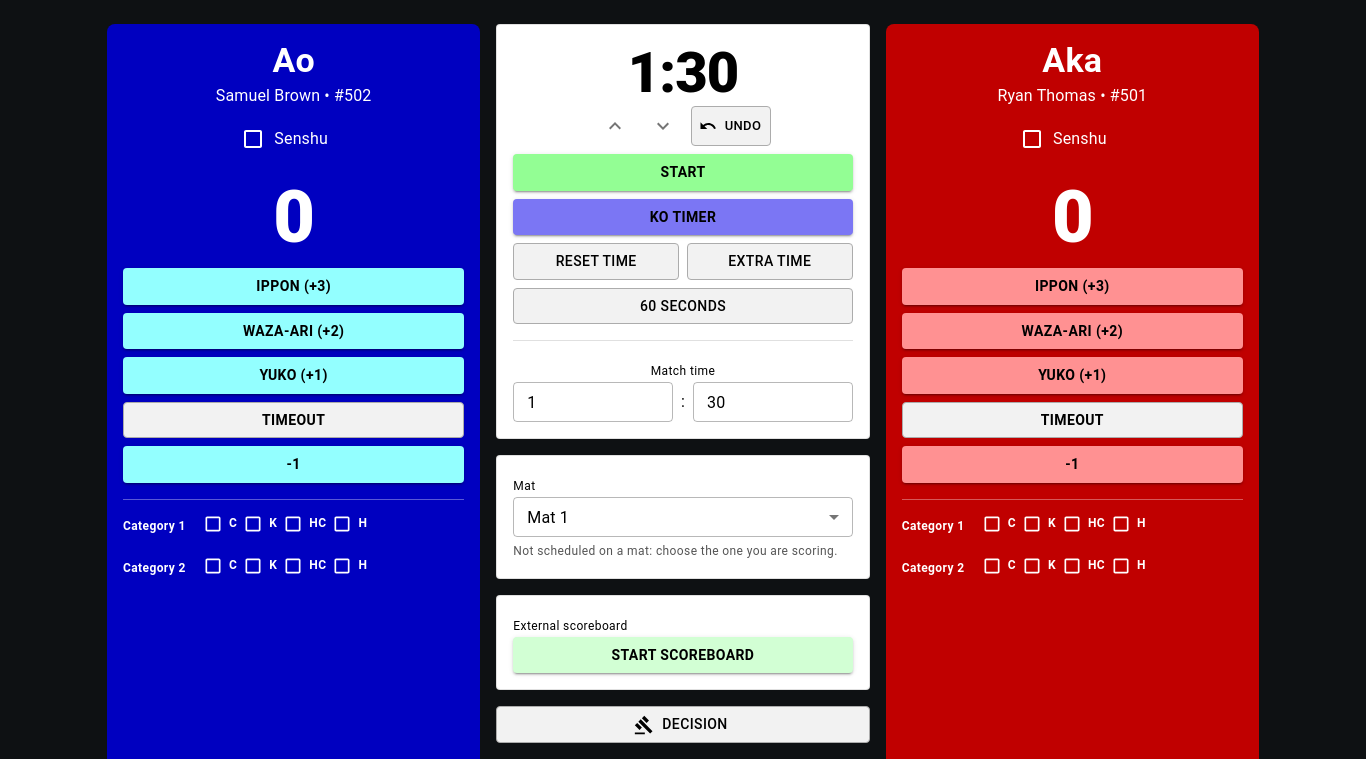
Test: console undo and referee decisions › declares kiken against the score and names the other side
The image size is (1366, 759).
Click the button "Ippon (+3)" below "Samuel Brown" at (294, 286), box [123,268,464,304]
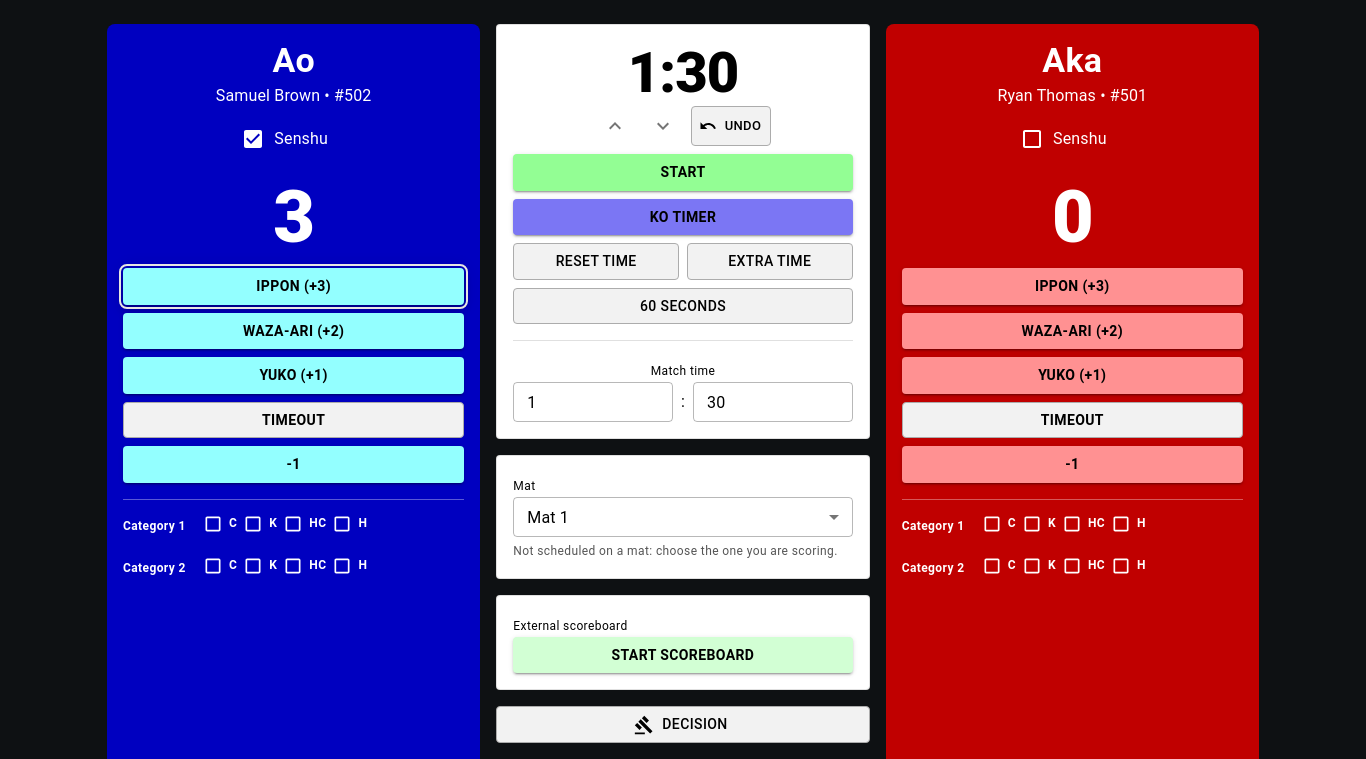
Click the button "Decision" at (683, 725), box [496,706,870,743]
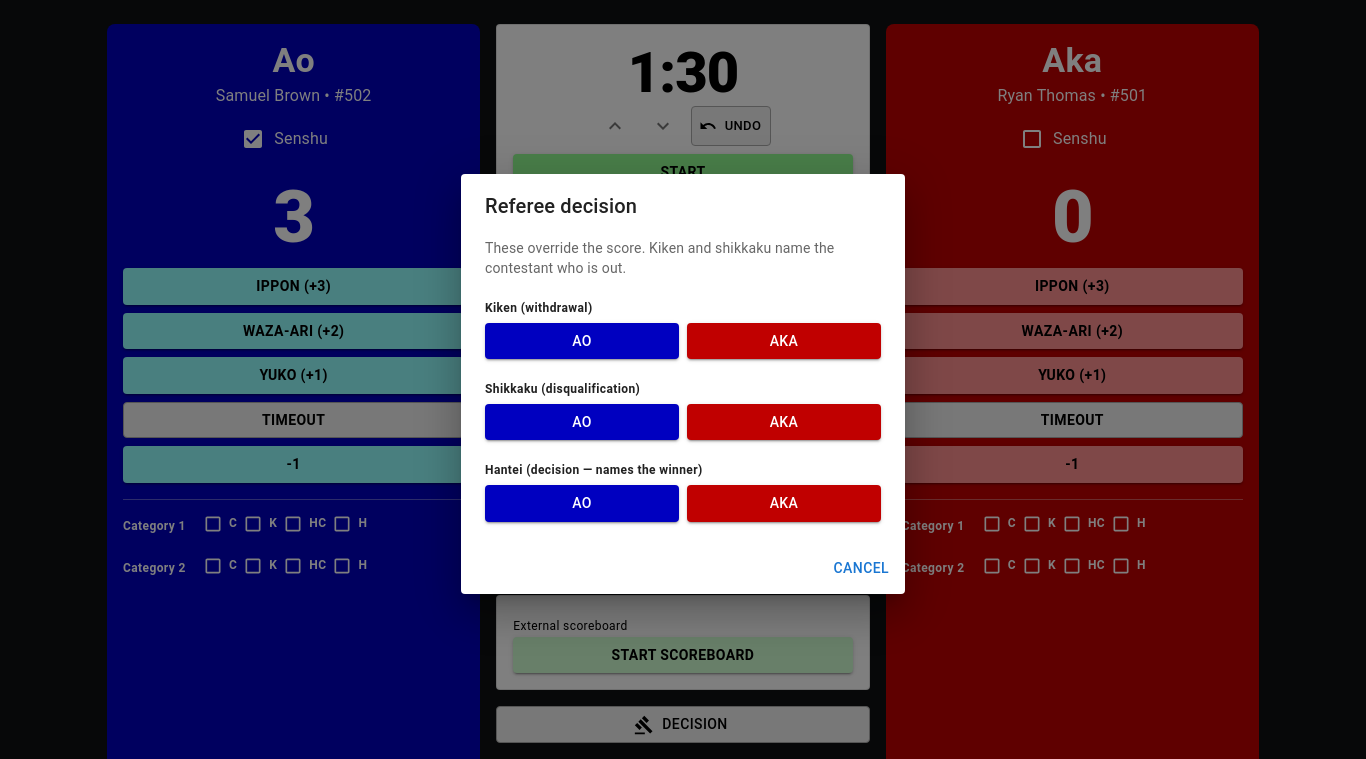
Click the button "Ao" below "Kiken (withdrawal)" at (582, 341), box [485,323,679,359]
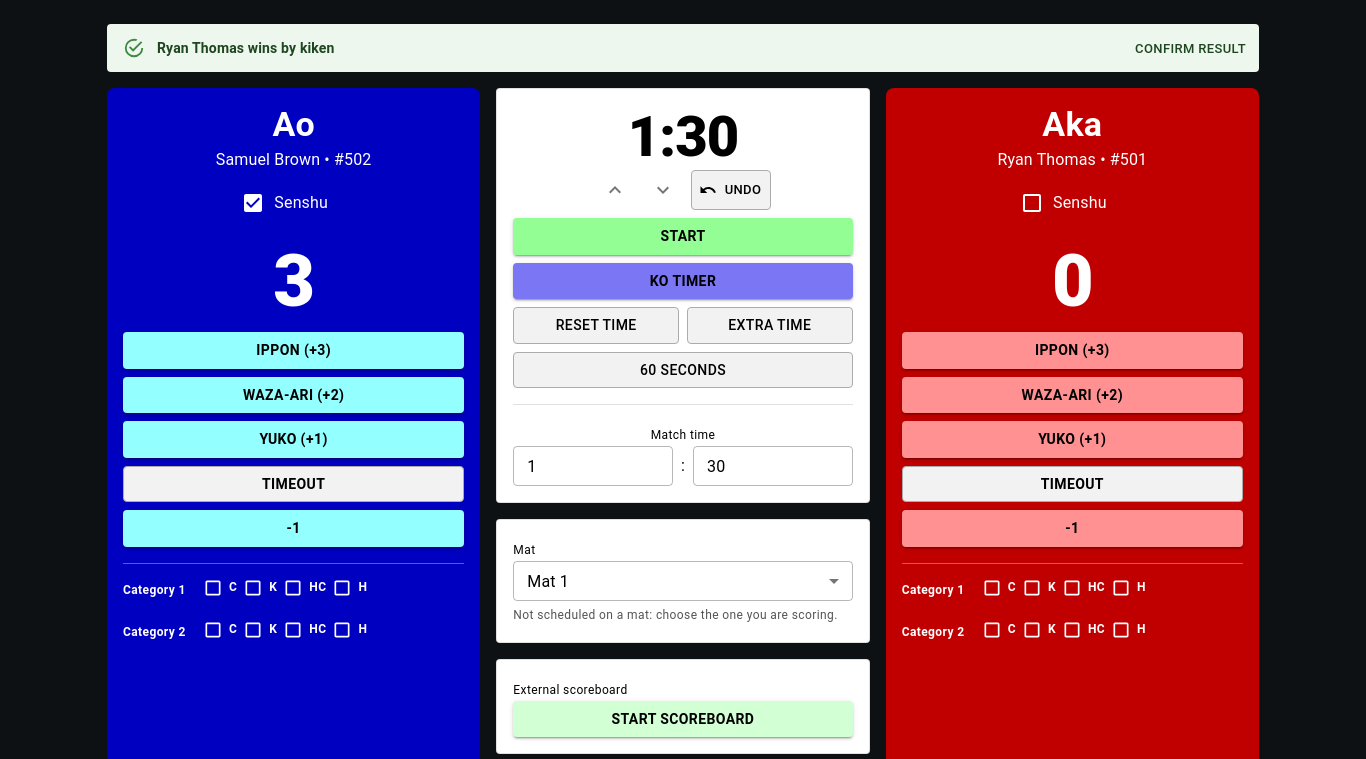
Now the text "Ryan Thomas wins by kiken" is shown, box [157,40,335,56]
